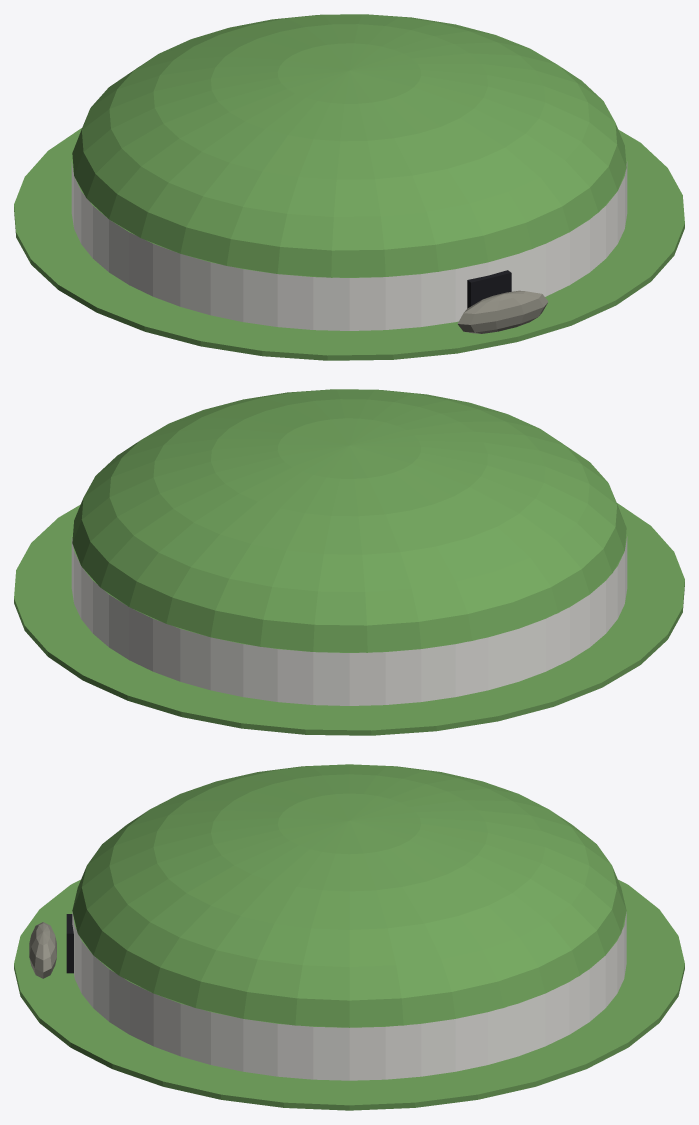
File: newgrange.glb
3 renders of one model, top to bottom at view 1: azimuth 30°, elevation 25°; view 2: azimuth 150°, elevation 25°; view 3: azimuth 270°, elevation 25°, orthographic.
Size of the model in its own units: 2.3 by 0.56 by 2.3.
